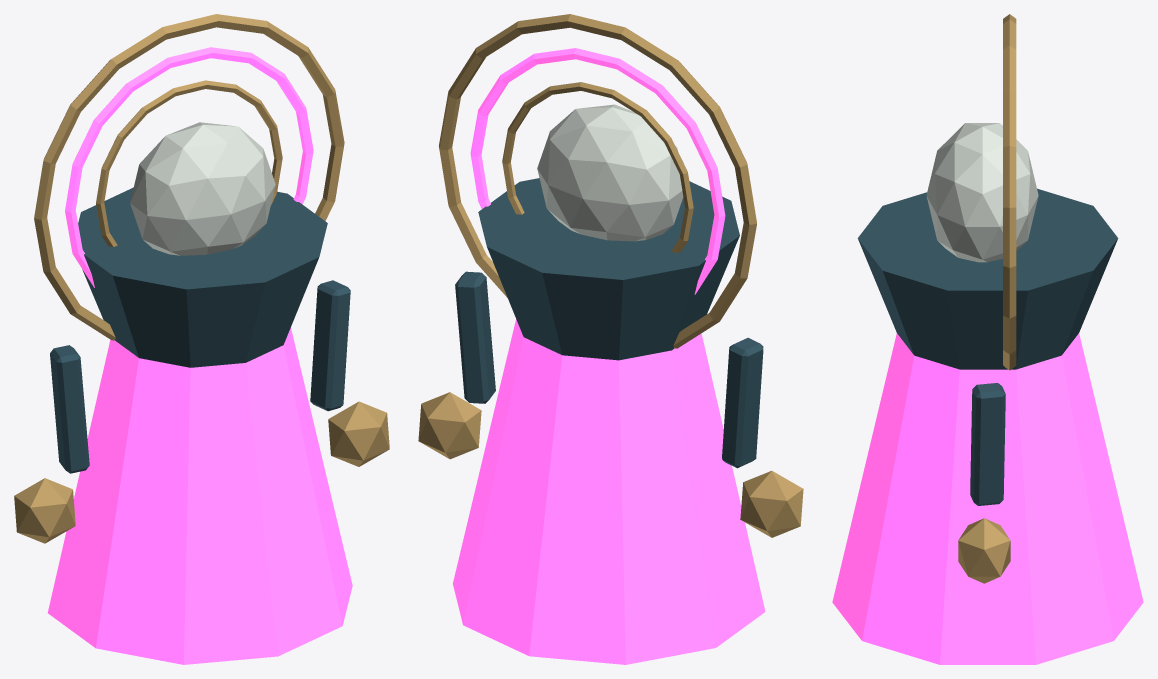
File: warden.glb
3 renders of one model, left to right at view 1: azimuth 30°, elevation 25°; view 2: azimuth 150°, elevation 25°; view 3: azimuth 270°, elevation 25°, orthographic. The views are drawn at different scales.
Visible parts, largest first — view 1: Warden robe, Warden breast, Erased librarian, Mandate halo 2, Mandate halo 1, Archive arm.001, Archive arm, Mandate halo 0, Warden hand, Warden hand.001; view 2: Warden robe, Warden breast, Erased librarian, Mandate halo 2, Mandate halo 1, Archive arm, Archive arm.001, Mandate halo 0, Warden hand, Warden hand.001; view 3: Warden robe, Warden breast, Erased librarian, Mandate halo 2, Archive arm.001, Warden hand.001.
Part boxes in pixels (x1,y1,x2,y2): Warden robe: (47, 327, 352, 664); Warden breast: (78, 187, 327, 367); Erased librarian: (130, 122, 275, 255); Mandate halo 2: (34, 14, 344, 340); Mandate halo 1: (65, 47, 313, 287); Archive arm.001: (310, 280, 350, 411); Archive arm: (50, 345, 89, 473); Mandate halo 0: (96, 80, 282, 246); Warden hand: (14, 478, 75, 543); Warden hand.001: (328, 401, 389, 466); Warden robe: (453, 319, 765, 664); Warden breast: (478, 178, 739, 360); Erased librarian: (537, 104, 683, 241); Mandate halo 2: (439, 14, 756, 348); Mandate halo 1: (470, 48, 725, 294); Archive arm: (722, 337, 763, 468); Archive arm.001: (455, 271, 495, 403); Mandate halo 0: (502, 82, 693, 252); Warden hand: (740, 470, 803, 537); Warden hand.001: (418, 392, 481, 459); Warden robe: (832, 333, 1143, 664); Warden breast: (857, 188, 1118, 369); Erased librarian: (926, 123, 1038, 262); Mandate halo 2: (1003, 14, 1016, 370); Archive arm.001: (970, 383, 1005, 505); Warden hand.001: (958, 518, 1010, 583).
Bounding box in the file's own units: 2.36 × 3.47 × 1.72.
